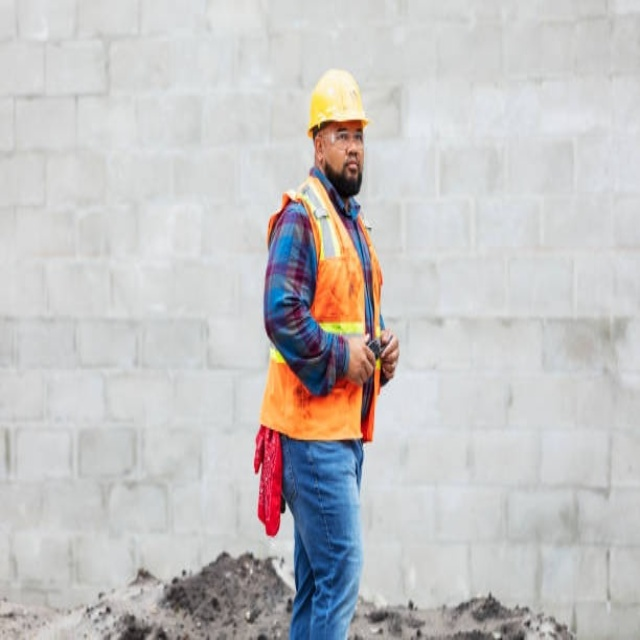Gafas: (321, 129, 365, 146)
Sin_guantes: (346, 332, 379, 386), (379, 325, 404, 382)
Sin_mascara: (335, 156, 367, 185)
